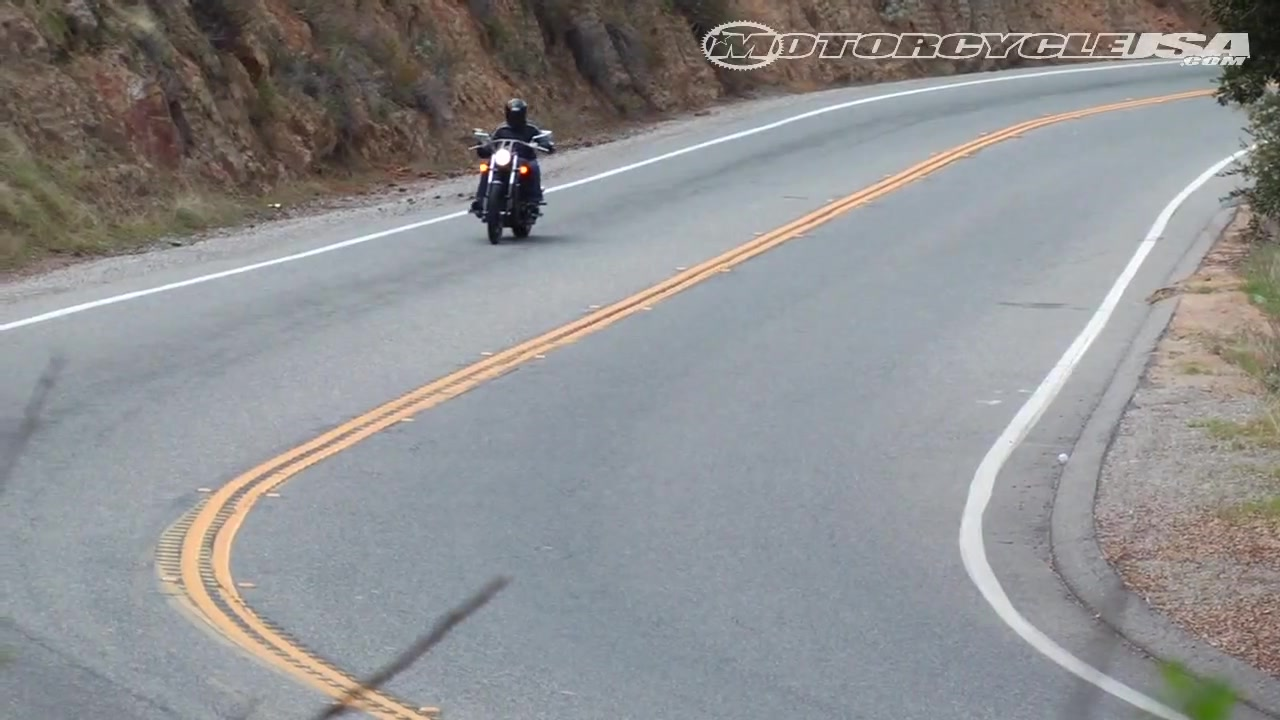motorbike: (463, 125, 556, 246)
